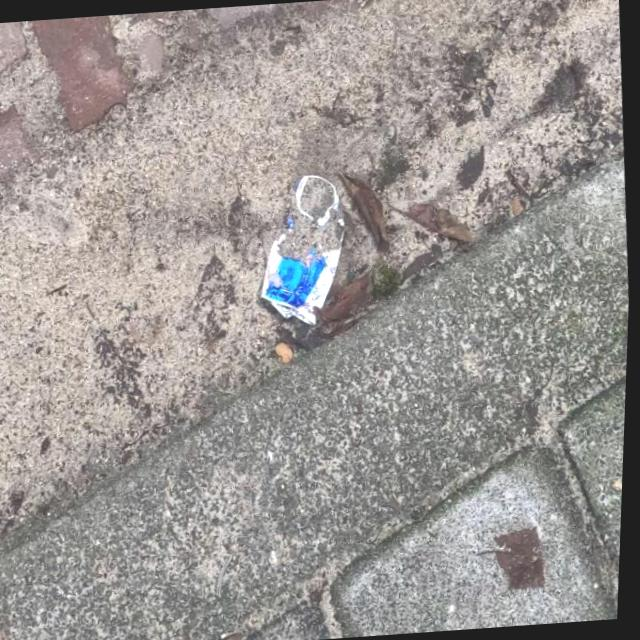Can-Metal: (248, 166, 357, 334)
